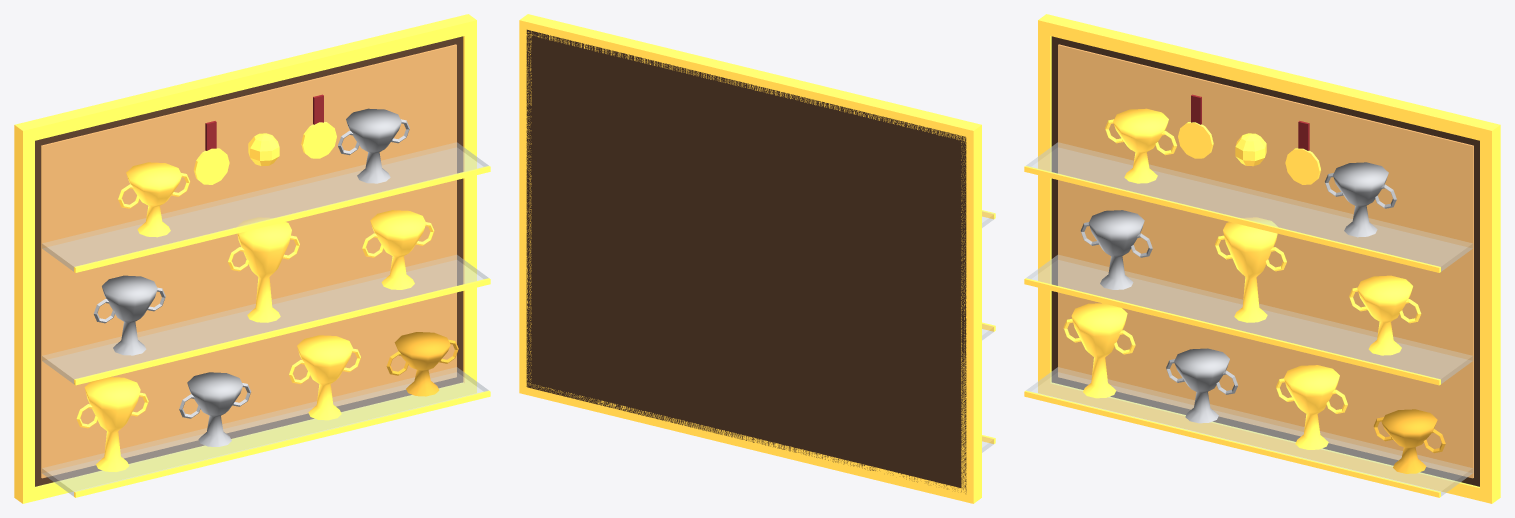
File: lux_trophy_wall.glb
3 views of the same model, side by side, from view 1: azimuth 30°, elevation 25°; view 2: azimuth 150°, elevation 25°; view 3: azimuth 330°, elevation 25° (orthographic).
Parts seen in each view (by area): view 1: lux_trophy_wall; view 2: lux_trophy_wall; view 3: lux_trophy_wall.
Boxes of the visible parts, x1,y1,x2,y2 form: lux_trophy_wall: (14,14,490,503); lux_trophy_wall: (519,14,995,503); lux_trophy_wall: (1024,14,1500,503).
Size of the model in its own units: 1.86 by 1.46 by 0.295.
